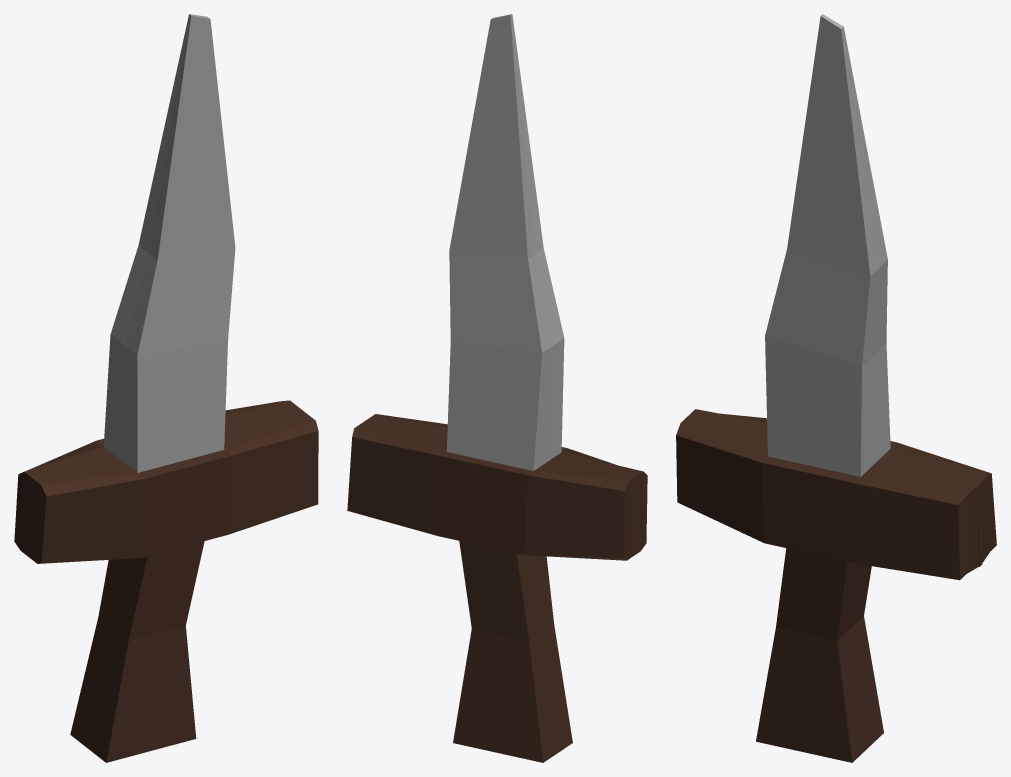
The model's file is knife.fbx.
3 renders of one model, left to right at view 1: azimuth 30°, elevation 25°; view 2: azimuth 150°, elevation 25°; view 3: azimuth 330°, elevation 25°, orthographic. The views are drawn at different scales.
Parts seen in each view (by area): view 1: Blade; view 2: Blade; view 3: Blade.
Boxes of the visible parts, <box> form: Blade: <box>14,14,318,762</box>; Blade: <box>347,14,647,762</box>; Blade: <box>676,14,996,762</box>.
Bounding box in the file's own units: 632 × 205 × 1586.
